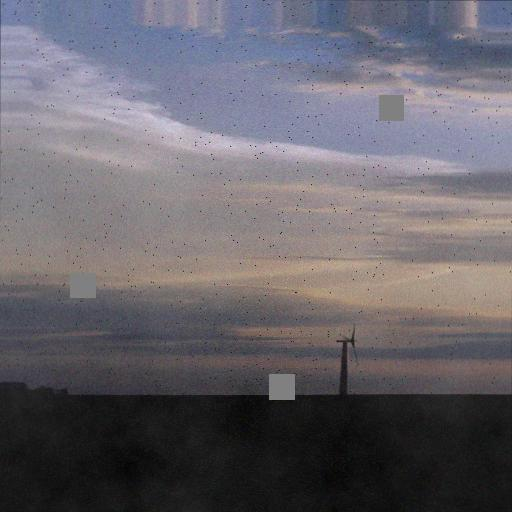wind turbine: (330, 322, 359, 395)
